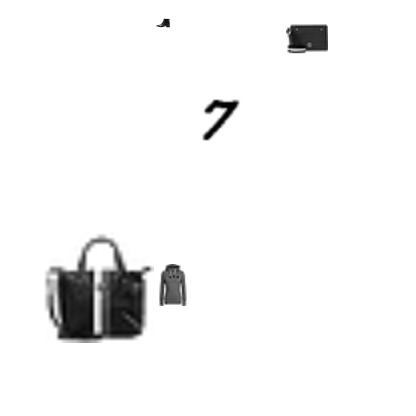7: (191, 86, 247, 142)
Ankle_boot: (156, 16, 170, 30)
Bag: (42, 231, 154, 343), (286, 17, 328, 59)
Pullover: (152, 264, 194, 306)
